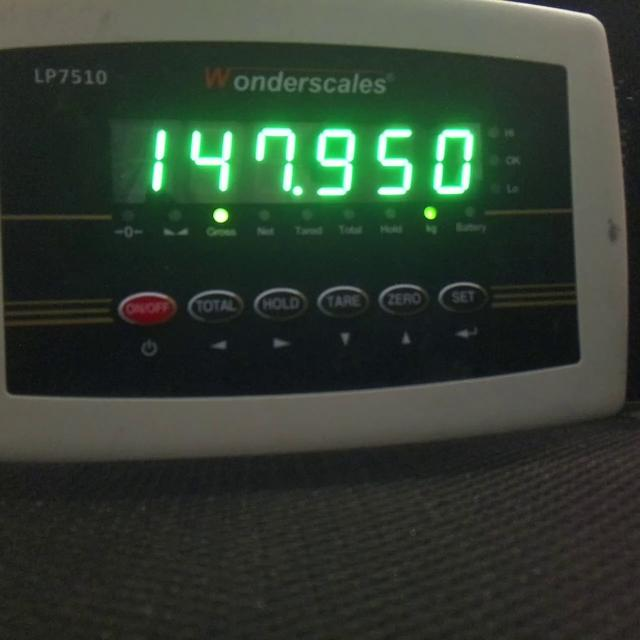.: (290, 184, 303, 197)
0: (433, 128, 474, 195)
1: (150, 129, 167, 192)
4: (189, 128, 232, 193)
5: (375, 128, 414, 197)
7: (255, 126, 297, 194)
9: (315, 128, 356, 196)
